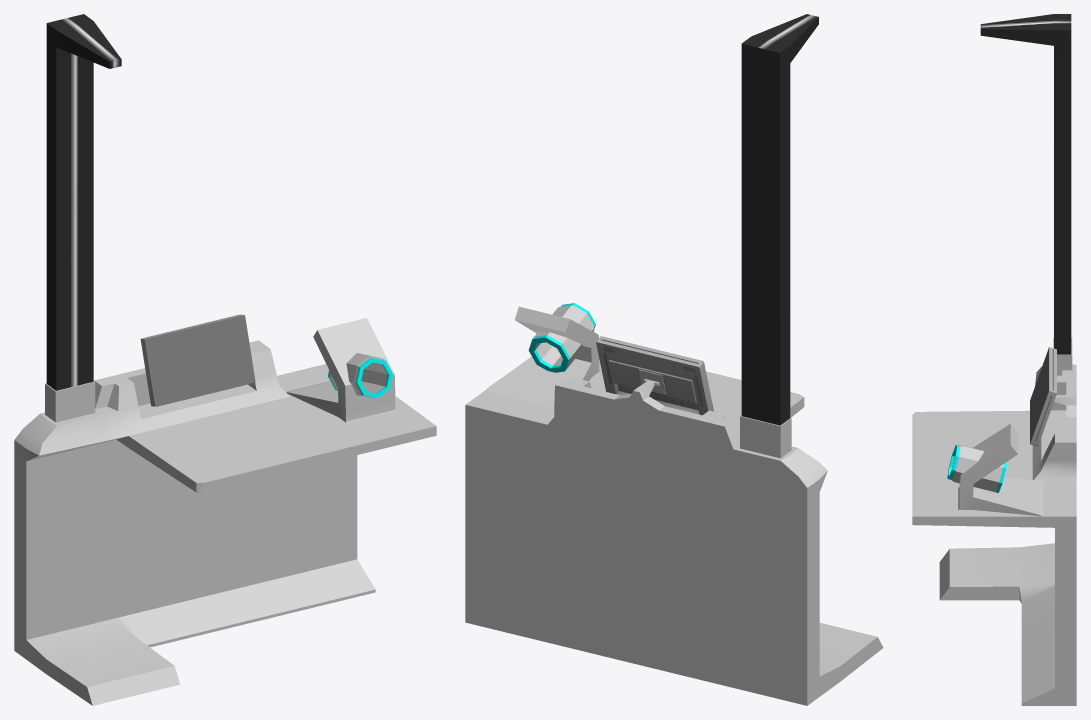
Rendered from UTC_520_HP.fbx.
The picture shows the model from 3 angles, left to right: view 1: azimuth 30°, elevation 25°; view 2: azimuth 150°, elevation 25°; view 3: azimuth 270°, elevation 25°; orthographic projection. The views are drawn at different scales.
Parts seen in each view (by area): view 1: C, D, A, B; view 2: C, D, A, B; view 3: C, D, A, B.
Part boxes in pixels (box(x1,y1,x2,y2)): C: box(14, 318, 436, 705); D: box(45, 14, 121, 422); A: box(140, 314, 255, 406); B: box(328, 353, 392, 398); C: box(465, 306, 883, 705); D: box(740, 14, 818, 458); A: box(596, 336, 713, 415); B: box(528, 303, 595, 372); C: box(912, 364, 1076, 705); D: box(980, 14, 1072, 375); A: box(1030, 347, 1056, 446); B: box(947, 445, 1007, 492).
Size of the model in its own units: 172 by 309 by 82.12.
